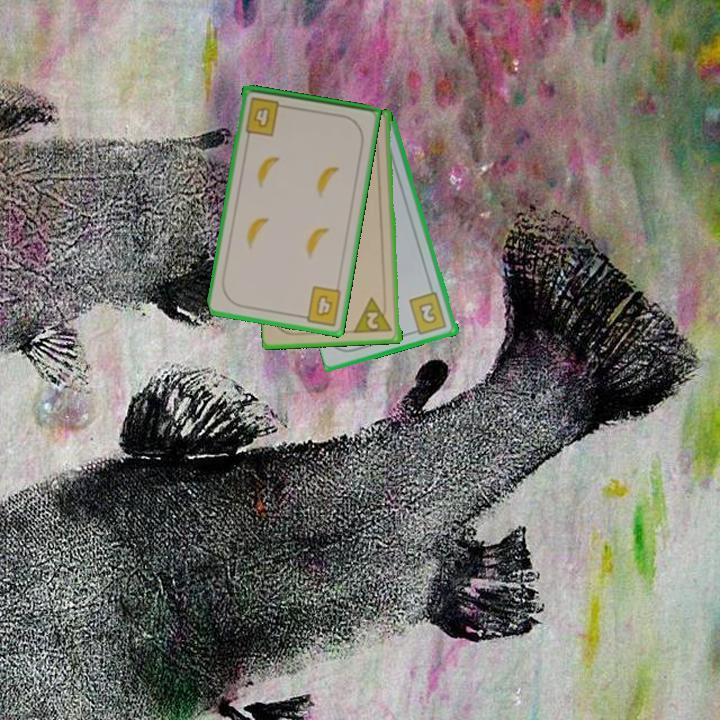2b: (406, 289, 450, 338)
2p: (352, 294, 395, 336)
4b: (296, 283, 345, 329), (242, 94, 290, 139)
